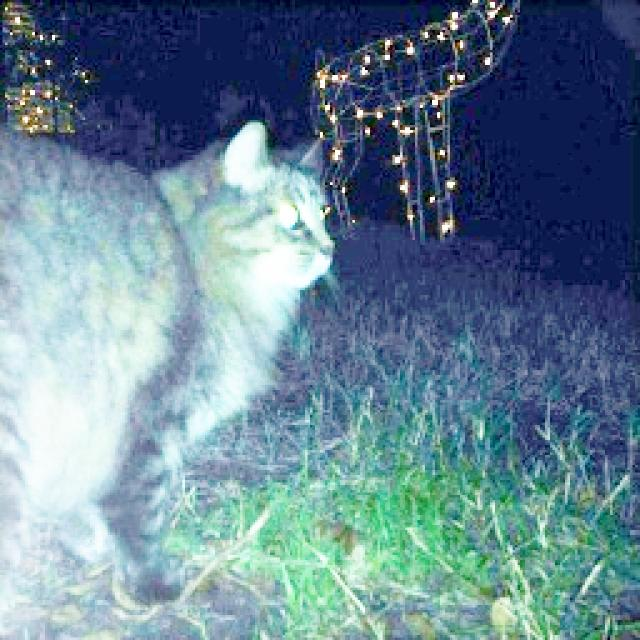cat: (0, 115, 332, 592)
